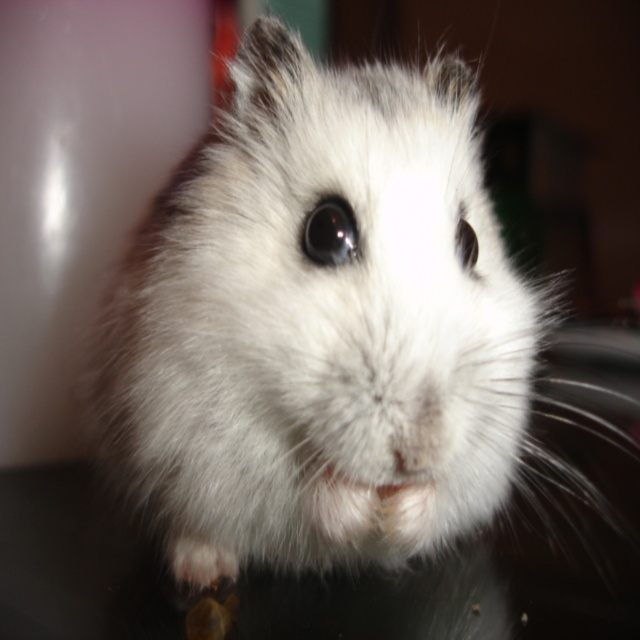Hamster: (76, 12, 639, 588)
